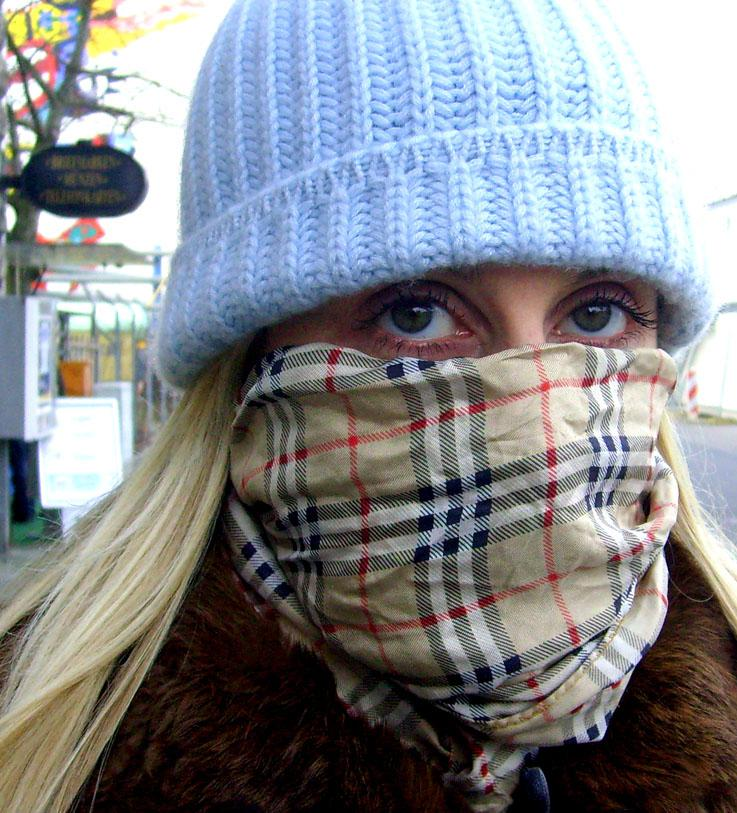OK: (330, 243, 684, 597)
